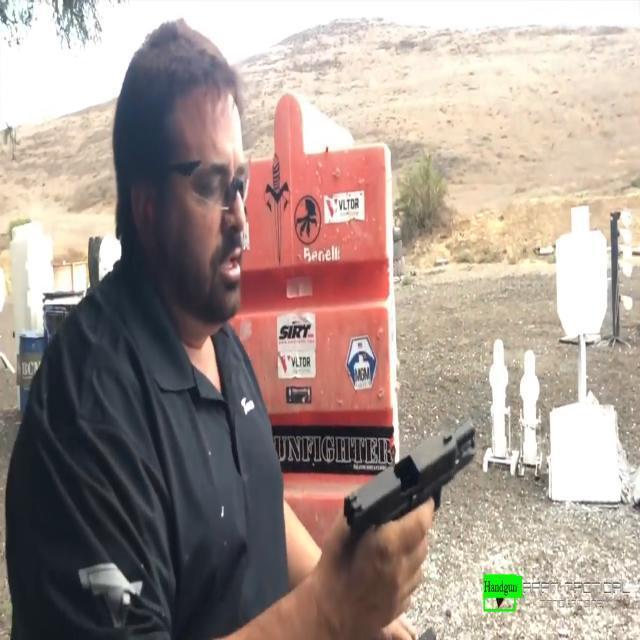Handgun: (338, 416, 479, 636)
